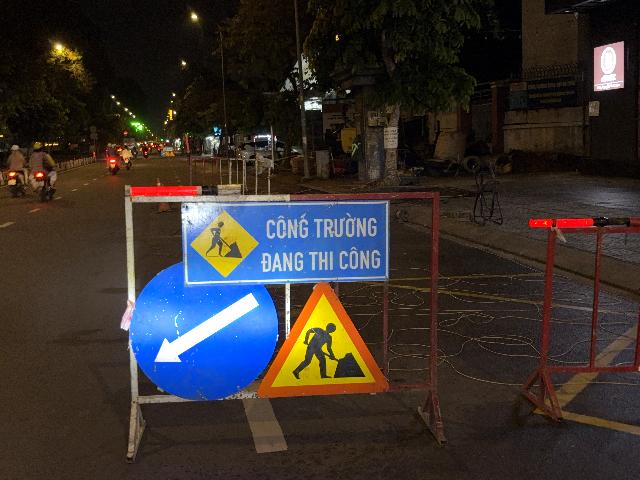cong-truong-dang-thi-cong: (256, 281, 389, 398)
huong-phai-di-vong-chuong-ngai-vat: (129, 260, 278, 400)
